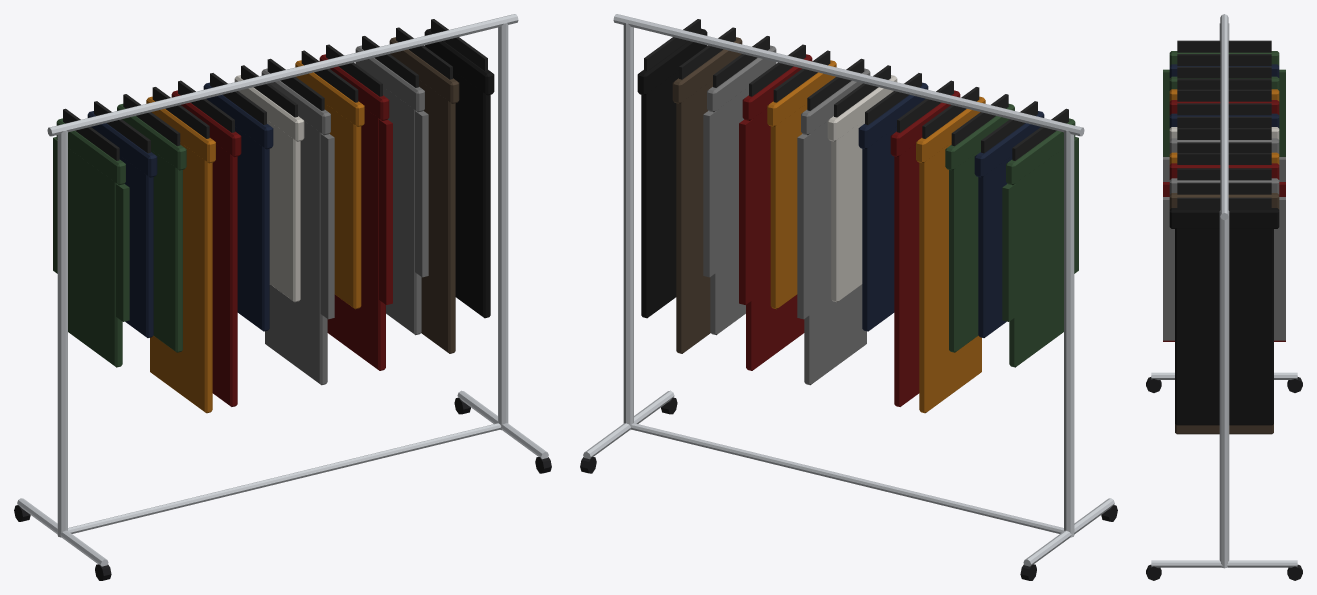
The model's file is clothes_rail.glb.
3 views of the same model, side by side, from view 1: azimuth 30°, elevation 25°; view 2: azimuth 150°, elevation 25°; view 3: azimuth 270°, elevation 25° (orthographic). The views are drawn at different scales.
Visible parts, largest first — view 1: clothes_rail; view 2: clothes_rail; view 3: clothes_rail.
Part boxes in pixels (x1,y1,x2,y2): clothes_rail: [14, 14, 551, 580]; clothes_rail: [580, 14, 1117, 580]; clothes_rail: [1146, 14, 1302, 580].
Size of the model in its own units: 1.8 by 1.57 by 0.6.
